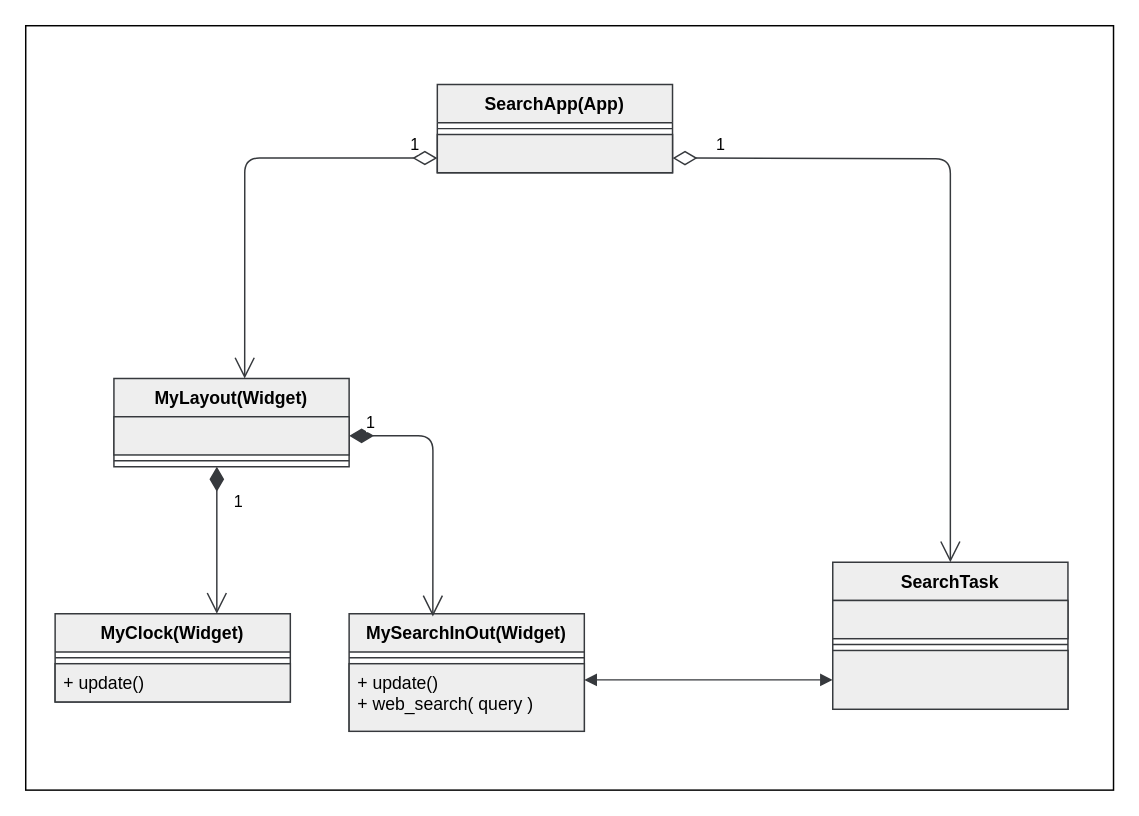
Some shapes in this 1139 by 816 pixel diagram are drawn without their labels. The centre of each missing label's shape, as x and y in pixels:
"+ build()" goes at [554,153].
"+ layout" goes at [230,435].
"+ search( query ) + get_response()" goes at [949,679].
"- response" goes at [949,619].
